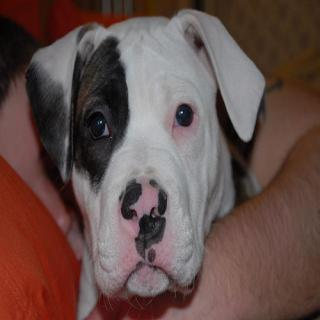dog: (23, 9, 263, 307)
nose: (116, 176, 173, 246)
